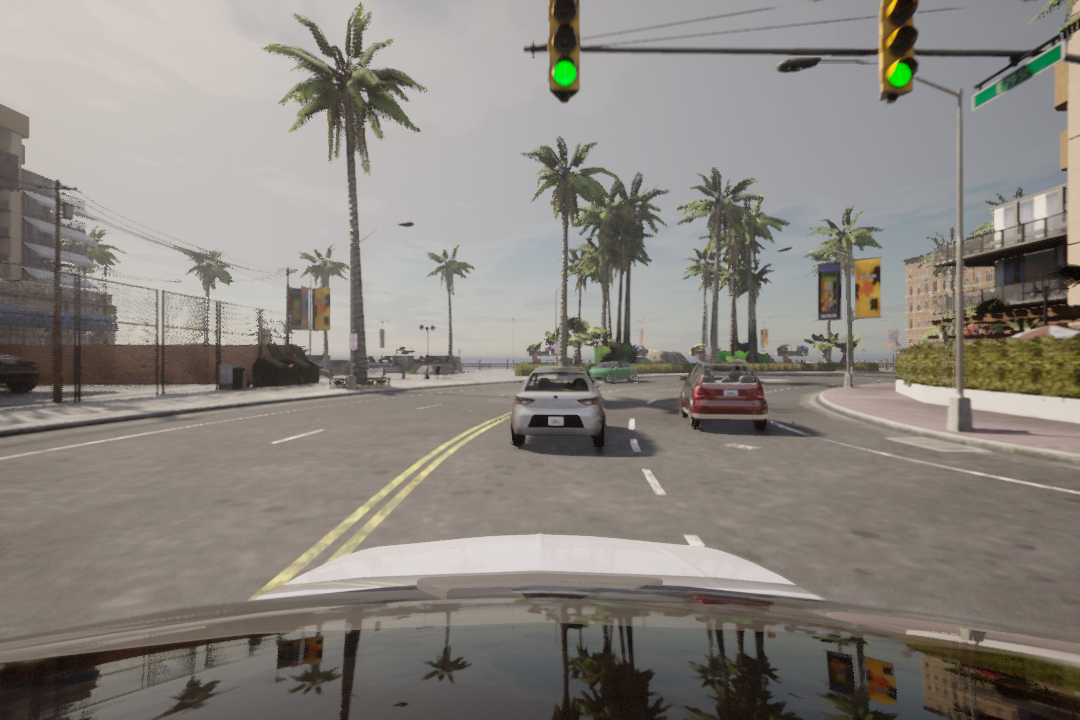TrafficLight: (880, 1, 916, 101), (551, 1, 580, 94)
